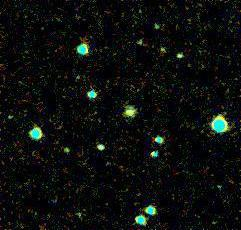star: (112, 96, 142, 126)
